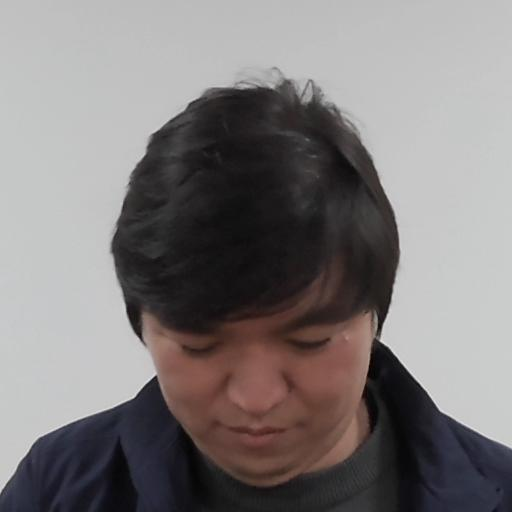no_glasses: (112, 85, 395, 480)
